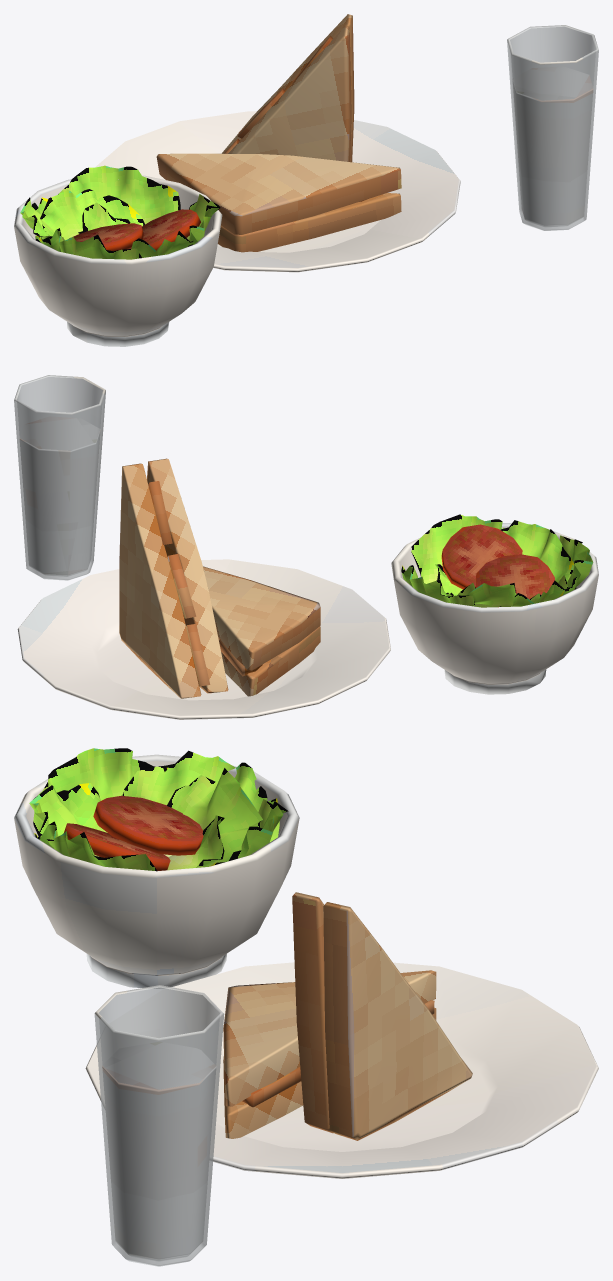
The model's file is a_sch_cafe01_lunch04.gltf.
3 renders of one model, top to bottom at view 1: azimuth 30°, elevation 25°; view 2: azimuth 150°, elevation 25°; view 3: azimuth 270°, elevation 25°, orthographic. The views are drawn at different scales.
Visible parts, largest first — view 1: um_a_sch_cafe01_lunch04_model_a_sch_cafe01_lunch04_modelShap (×5); view 2: um_a_sch_cafe01_lunch04_model_a_sch_cafe01_lunch04_modelShap (×5); view 3: um_a_sch_cafe01_lunch04_model_a_sch_cafe01_lunch04_modelShap (×5).
Boxes of the visible parts, x1=… form: um_a_sch_cafe01_lunch04_model_a_sch_cafe01_lunch04_modelShap (×5): x1=14, y1=14, x2=598, y2=346; um_a_sch_cafe01_lunch04_model_a_sch_cafe01_lunch04_modelShap (×5): x1=14, y1=375, x2=598, y2=719; um_a_sch_cafe01_lunch04_model_a_sch_cafe01_lunch04_modelShap (×5): x1=14, y1=748, x2=598, y2=1266.
Bounding box in the file's own units: 0.524 × 0.1638 × 0.344.
5 materials, 5 textured.
